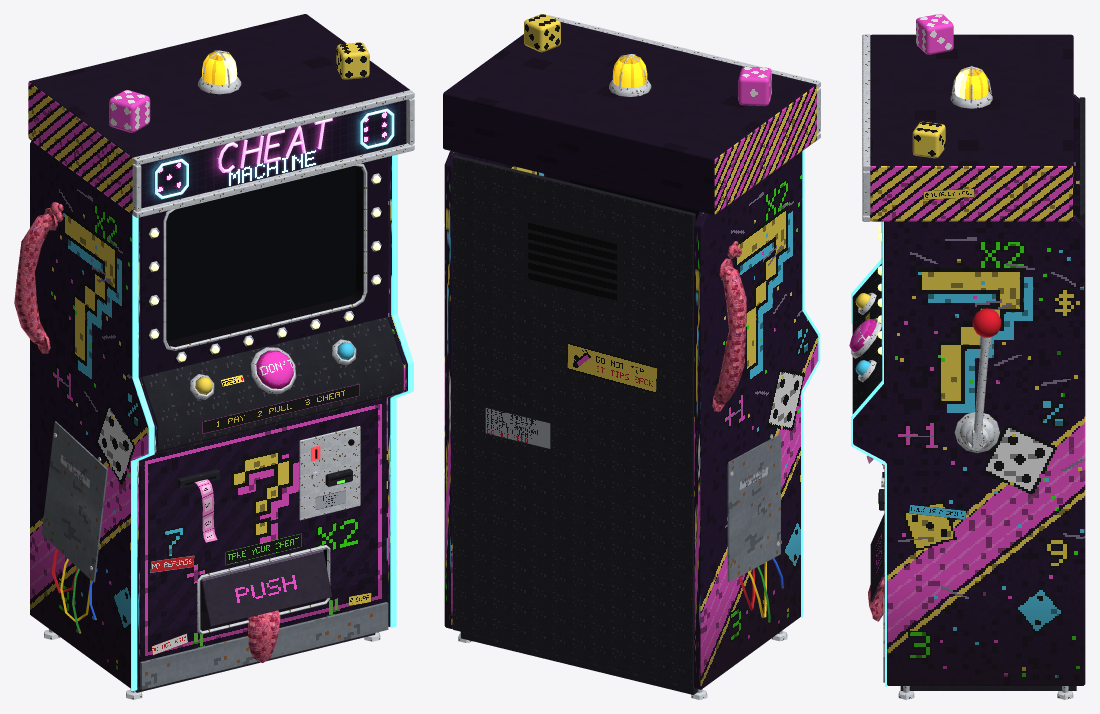
Rendered from x_zmmachine.glb.
3 renders of one model, left to right at view 1: azimuth 30°, elevation 25°; view 2: azimuth 150°, elevation 25°; view 3: azimuth 270°, elevation 25°, orthographic. The views are drawn at different scales.
Visible parts, largest first — view 1: zmm_body, lamp_wzN; view 2: zmm_body, lamp_wzN; view 3: zmm_body, lever, lamp_wzN.
Part boxes in pixels (<box>): zmm_body: <box>14,14,414,699</box>; lamp_wzN: <box>202,51,236,85</box>; zmm_body: <box>443,14,820,699</box>; lamp_wzN: <box>613,55,647,87</box>; zmm_body: <box>849,14,1085,699</box>; lever: <box>965,308,1001,450</box>; lamp_wzN: <box>954,67,988,99</box>.
Size of the model in its own units: 1.3 by 2.23 by 0.8326.
12 materials, 10 textured.
